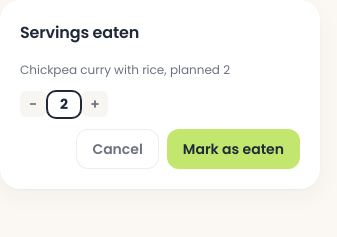
Test: ServingsPrompt › steps by 0.5 and shows the live kcal hint when it differs
Click the button named "Decrease" at (33, 104), box x1=20 y1=91 x2=46 y2=117
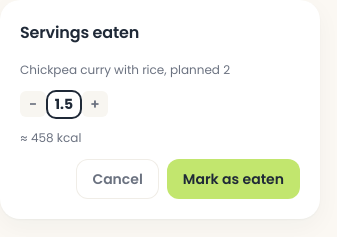
Now the text "≈ 458 kcal" is shown, box x1=20 y1=129 x2=81 y2=146
